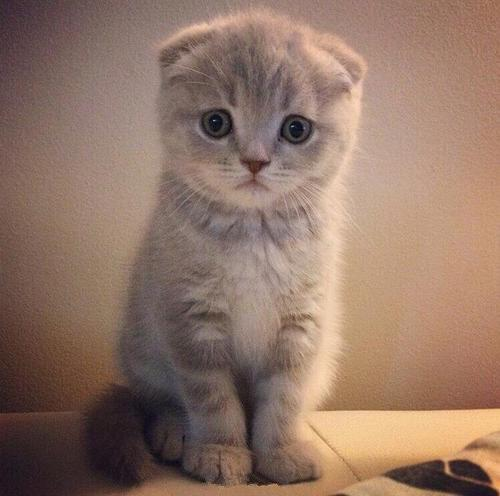cat: (132, 11, 386, 224)
